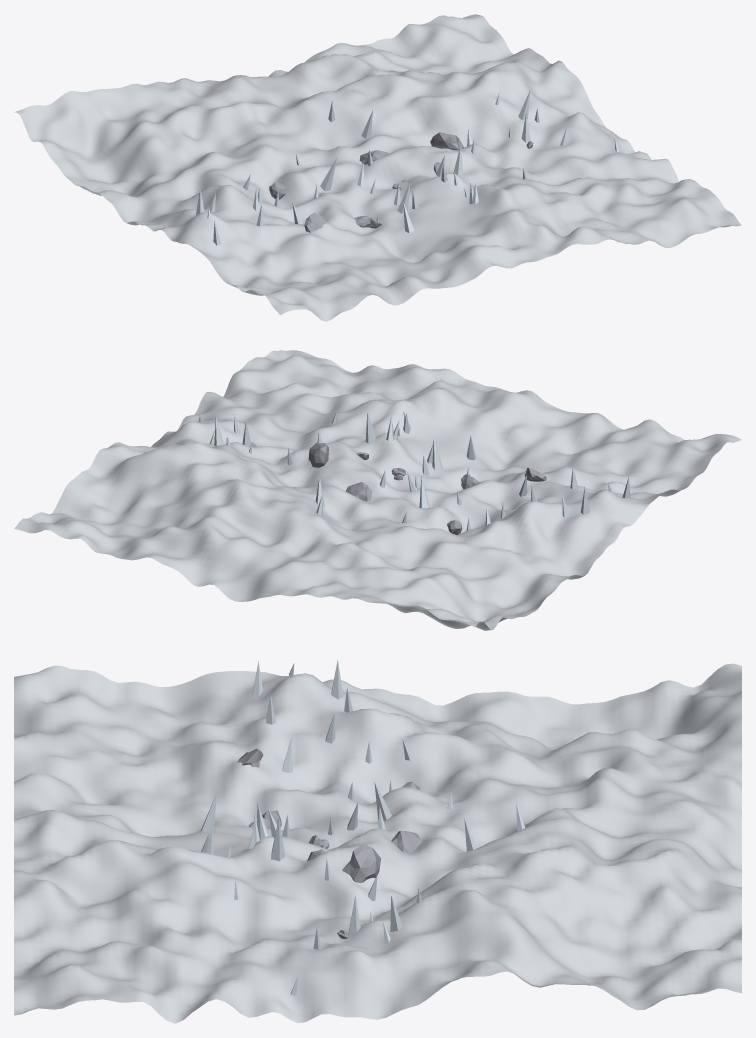
The model's file is land_ice.glb.
3 views of the same model, one above another, from view 1: azimuth 30°, elevation 25°; view 2: azimuth 150°, elevation 25°; view 3: azimuth 270°, elevation 25° (orthographic). The views are drawn at different scales.
Parts seen in each view (by area): view 1: ground, ice, rocks; view 2: ground, ice, rocks; view 3: ground, ice, rocks.
Boxes of the visible parts, left/top/right/bottom form: ground: left=14, top=14, right=741, bottom=321; ice: left=196, top=90, right=619, bottom=245; rocks: left=269, top=132, right=533, bottom=232; ground: left=14, top=350, right=741, bottom=630; ice: left=199, top=410, right=630, bottom=530; rocks: left=251, top=442, right=546, bottom=534; ground: left=14, top=663, right=741, bottom=1023; ice: left=201, top=660, right=525, bottom=995; rocks: left=237, top=748, right=421, bottom=938.
Size of the model in its own units: 80 by 11.49 by 80.
